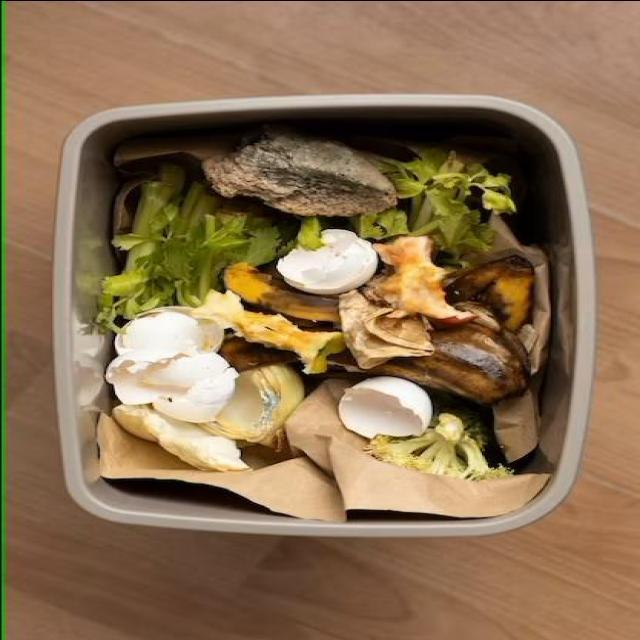Garbage: (96, 126, 550, 515)
